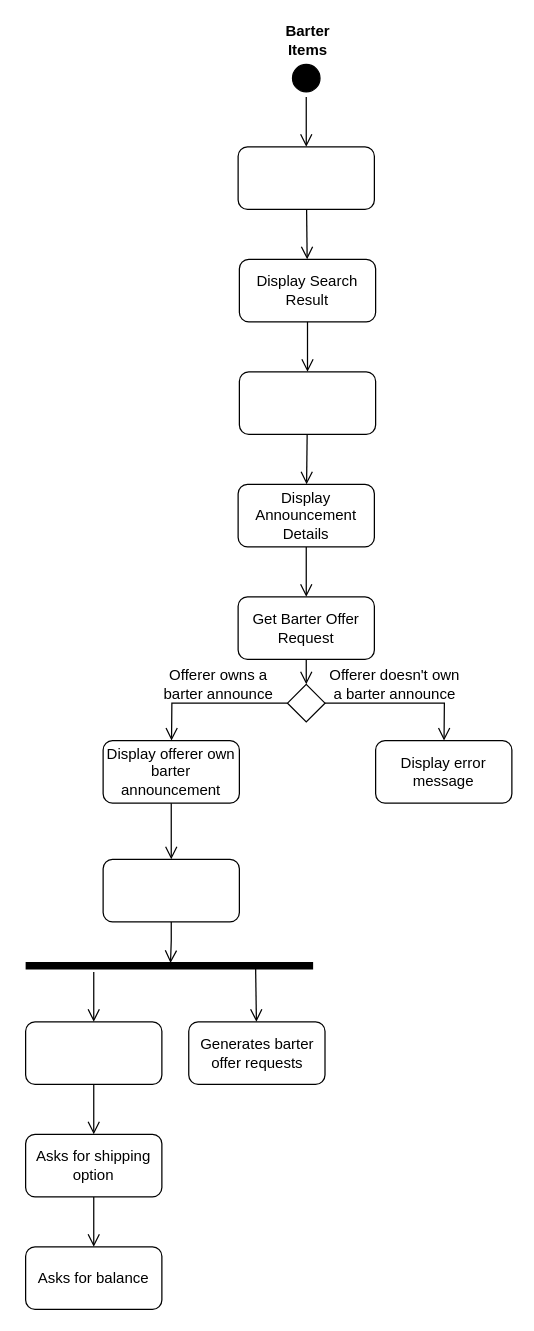
Some shapes in this 534 by 1331 pixel diagram are drawn without their labels. The shapes that lost their labels are listed below. From the top down, each one's centre as x and y in pixels, then its label:
(x=305, y=177): Get Search Announce Request
(x=307, y=402): Get Announce Selection
(x=170, y=890): Get barter announcement selection
(x=93, y=1052): Asks for escrow activation
